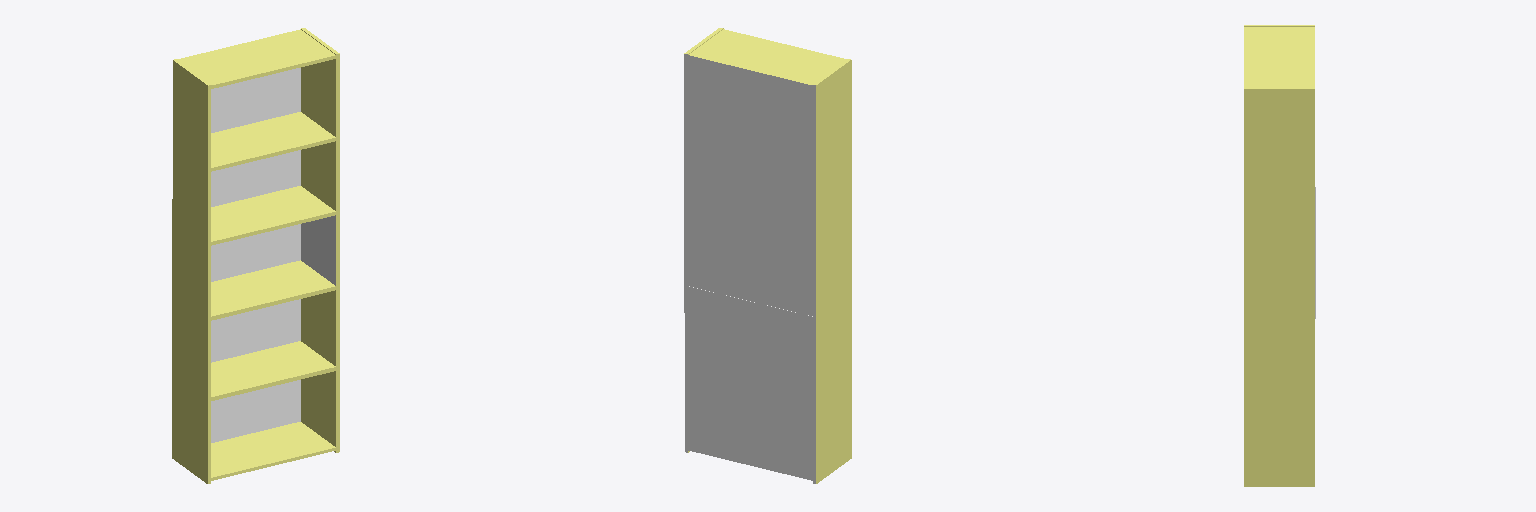
The picture shows the model from 3 angles: view 1: azimuth 30°, elevation 25°; view 2: azimuth 150°, elevation 25°; view 3: azimuth 270°, elevation 25°; orthographic projection.
Visible parts, largest first — view 1: Mesh1 Ikea_Kilby_Bookcase1 Model; view 2: Mesh1 Ikea_Kilby_Bookcase1 Model; view 3: Mesh1 Ikea_Kilby_Bookcase1 Model.
Part boxes in pixels (left/top/right/bottom): Mesh1 Ikea_Kilby_Bookcase1 Model: left=172, top=28, right=339, bottom=483; Mesh1 Ikea_Kilby_Bookcase1 Model: left=684, top=28, right=851, bottom=483; Mesh1 Ikea_Kilby_Bookcase1 Model: left=1244, top=25, right=1315, bottom=486.
Size of the model in its own units: 23.38 by 67.38 by 10.94.